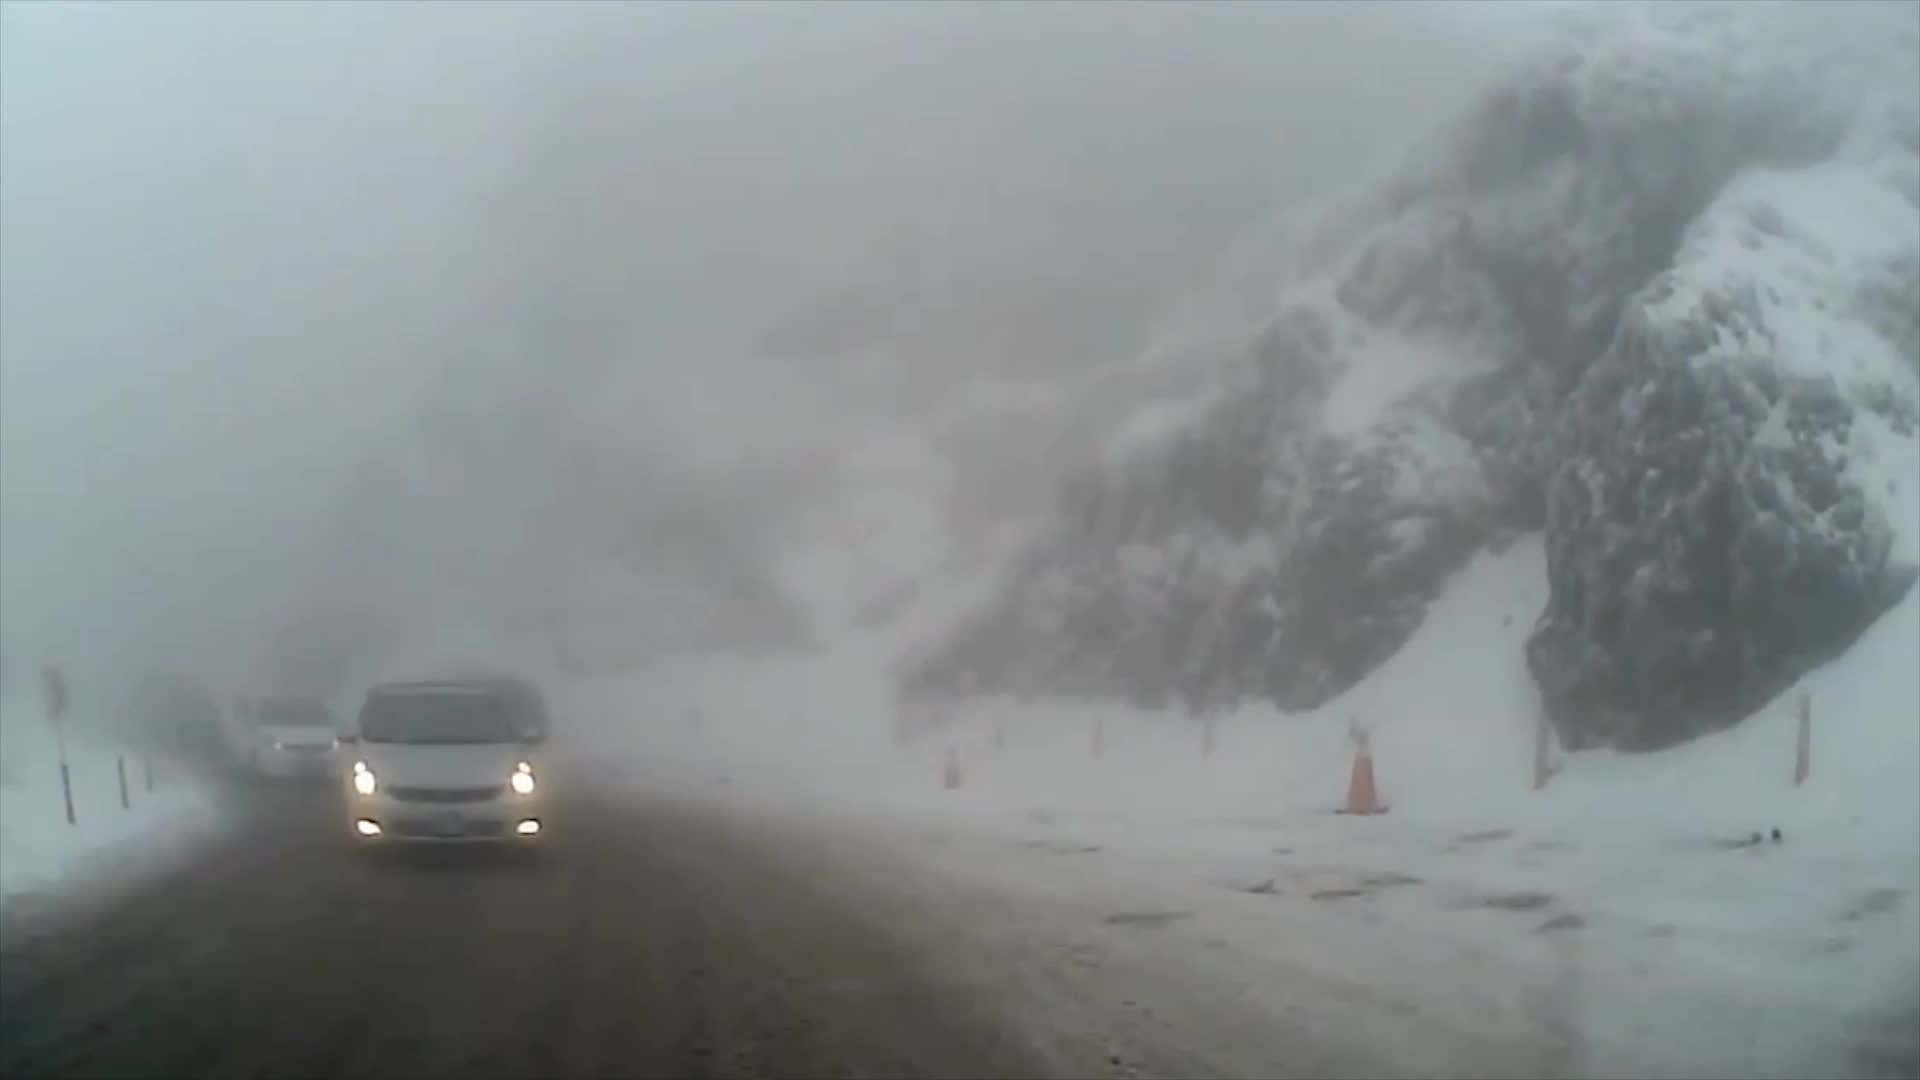vehicle: (331, 676, 547, 868), (218, 690, 353, 785)
